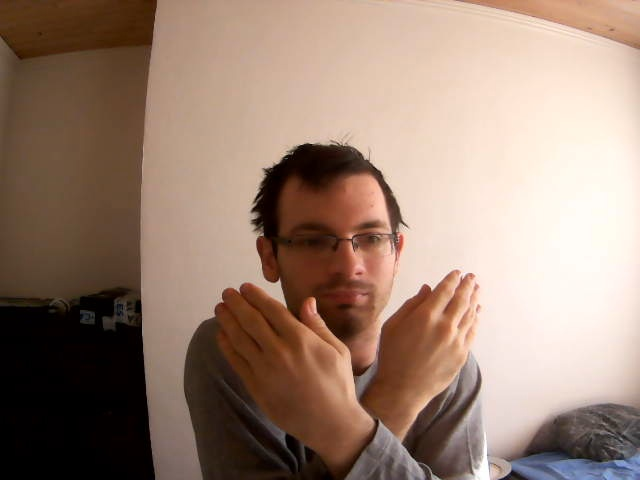butterfly: (213, 268, 488, 434)
